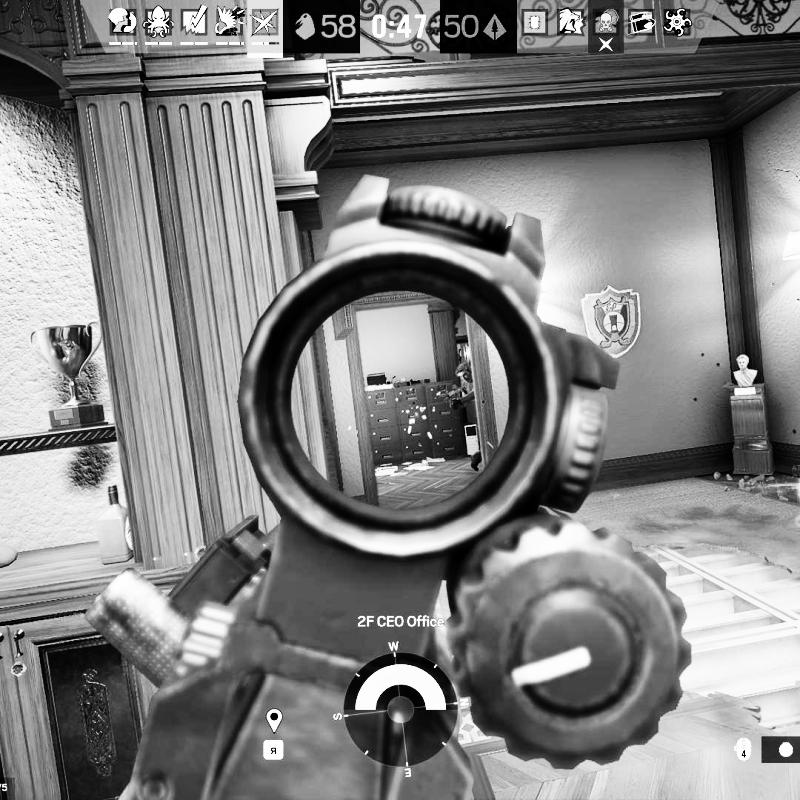Character: (444, 362, 485, 474)
Head: (455, 363, 472, 384)
